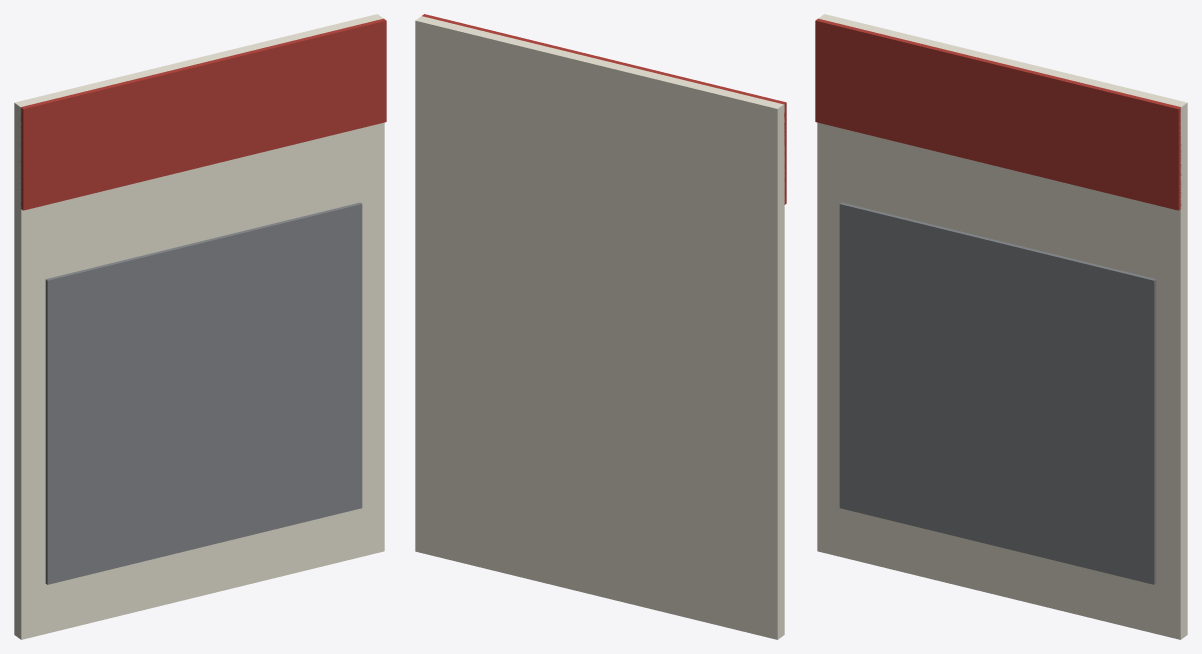
The model's file is GD_Calendar_01.glb.
The picture shows the model from 3 angles, left to right: view 1: azimuth 30°, elevation 25°; view 2: azimuth 150°, elevation 25°; view 3: azimuth 330°, elevation 25°; orthographic projection.
Parts seen in each view (by area): view 1: GD_Calendar_01; view 2: GD_Calendar_01; view 3: GD_Calendar_01.
Part boxes in pixels (x1,y1,x2,y2): GD_Calendar_01: [14, 14, 386, 639]; GD_Calendar_01: [415, 14, 786, 639]; GD_Calendar_01: [815, 14, 1187, 639].
Size of the model in its own units: 0.3 by 0.42 by 0.013.
Materials: 1 (1 with a texture image).
